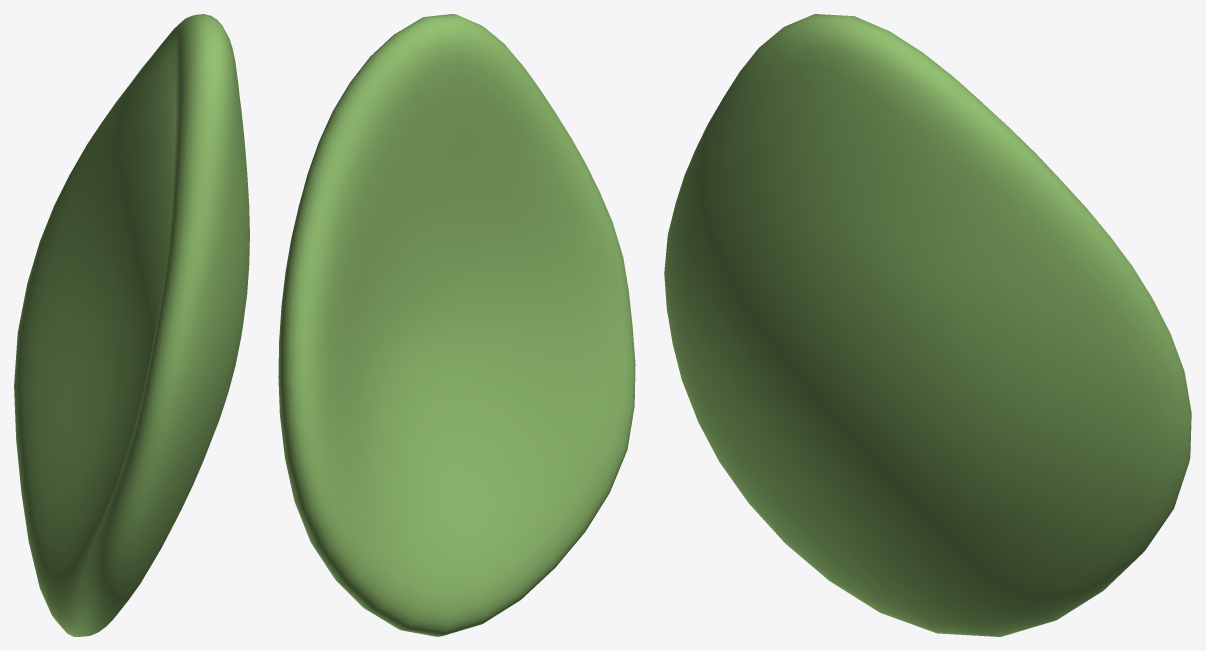
The model's file is TR4_Enamel_Diamond.001.glb.
3 renders of one model, left to right at view 1: azimuth 30°, elevation 25°; view 2: azimuth 150°, elevation 25°; view 3: azimuth 270°, elevation 25°, orthographic. The views are drawn at different scales.
Visible parts, largest first — view 1: TR4_Enamel_Diamond.001; view 2: TR4_Enamel_Diamond.001; view 3: TR4_Enamel_Diamond.001.
Part boxes in pixels (x1=…): TR4_Enamel_Diamond.001: x1=14, y1=14, x2=249, y2=636; TR4_Enamel_Diamond.001: x1=278, y1=14, x2=635, y2=636; TR4_Enamel_Diamond.001: x1=664, y1=14, x2=1191, y2=636.
Size of the model in its own units: 0.3266 by 0.8468 by 0.6101.
